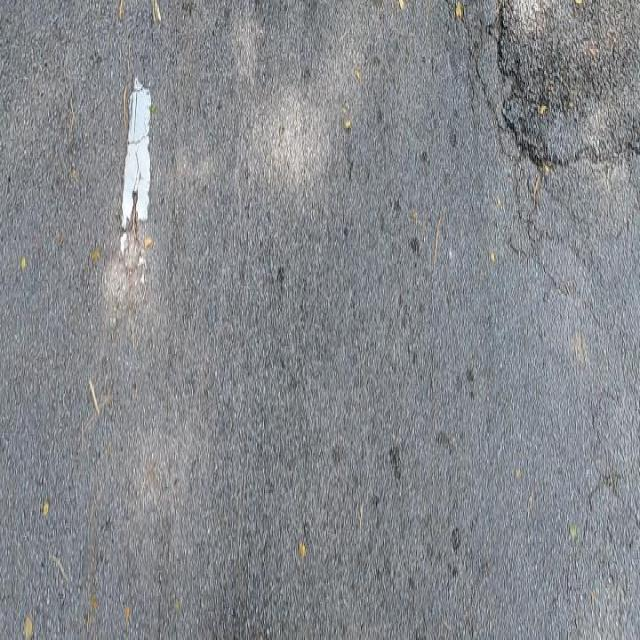cracks: (445, 0, 640, 291), (564, 355, 640, 637)
